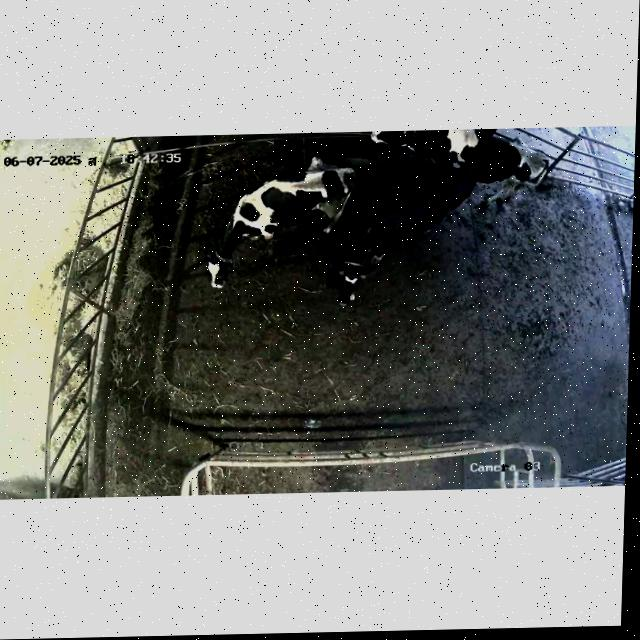stand: (339, 165, 479, 310), (206, 157, 358, 288)
